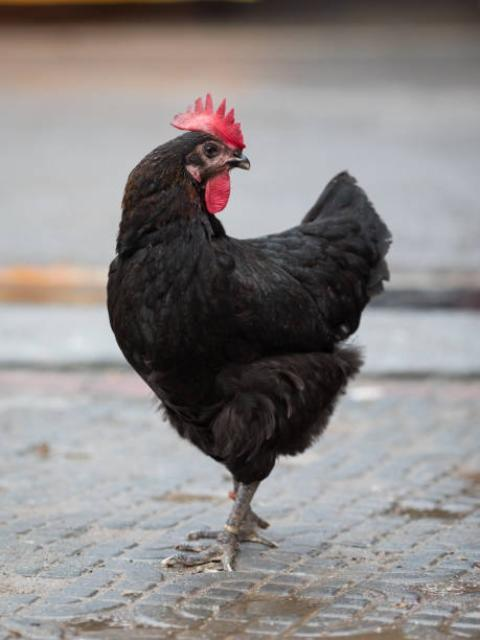Chicken: (109, 89, 396, 573)
